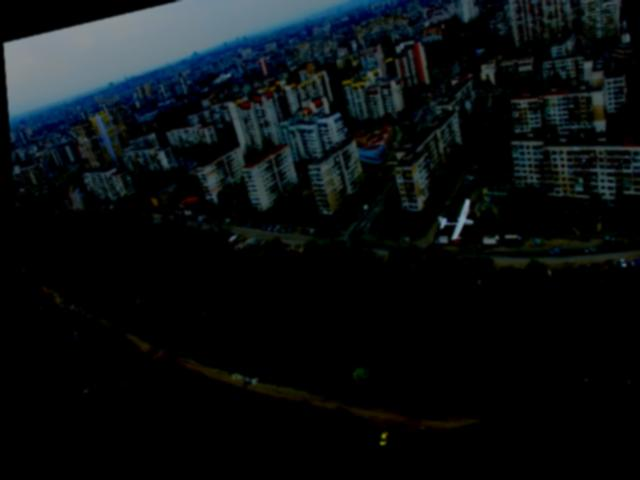plane: (431, 207, 474, 253)
